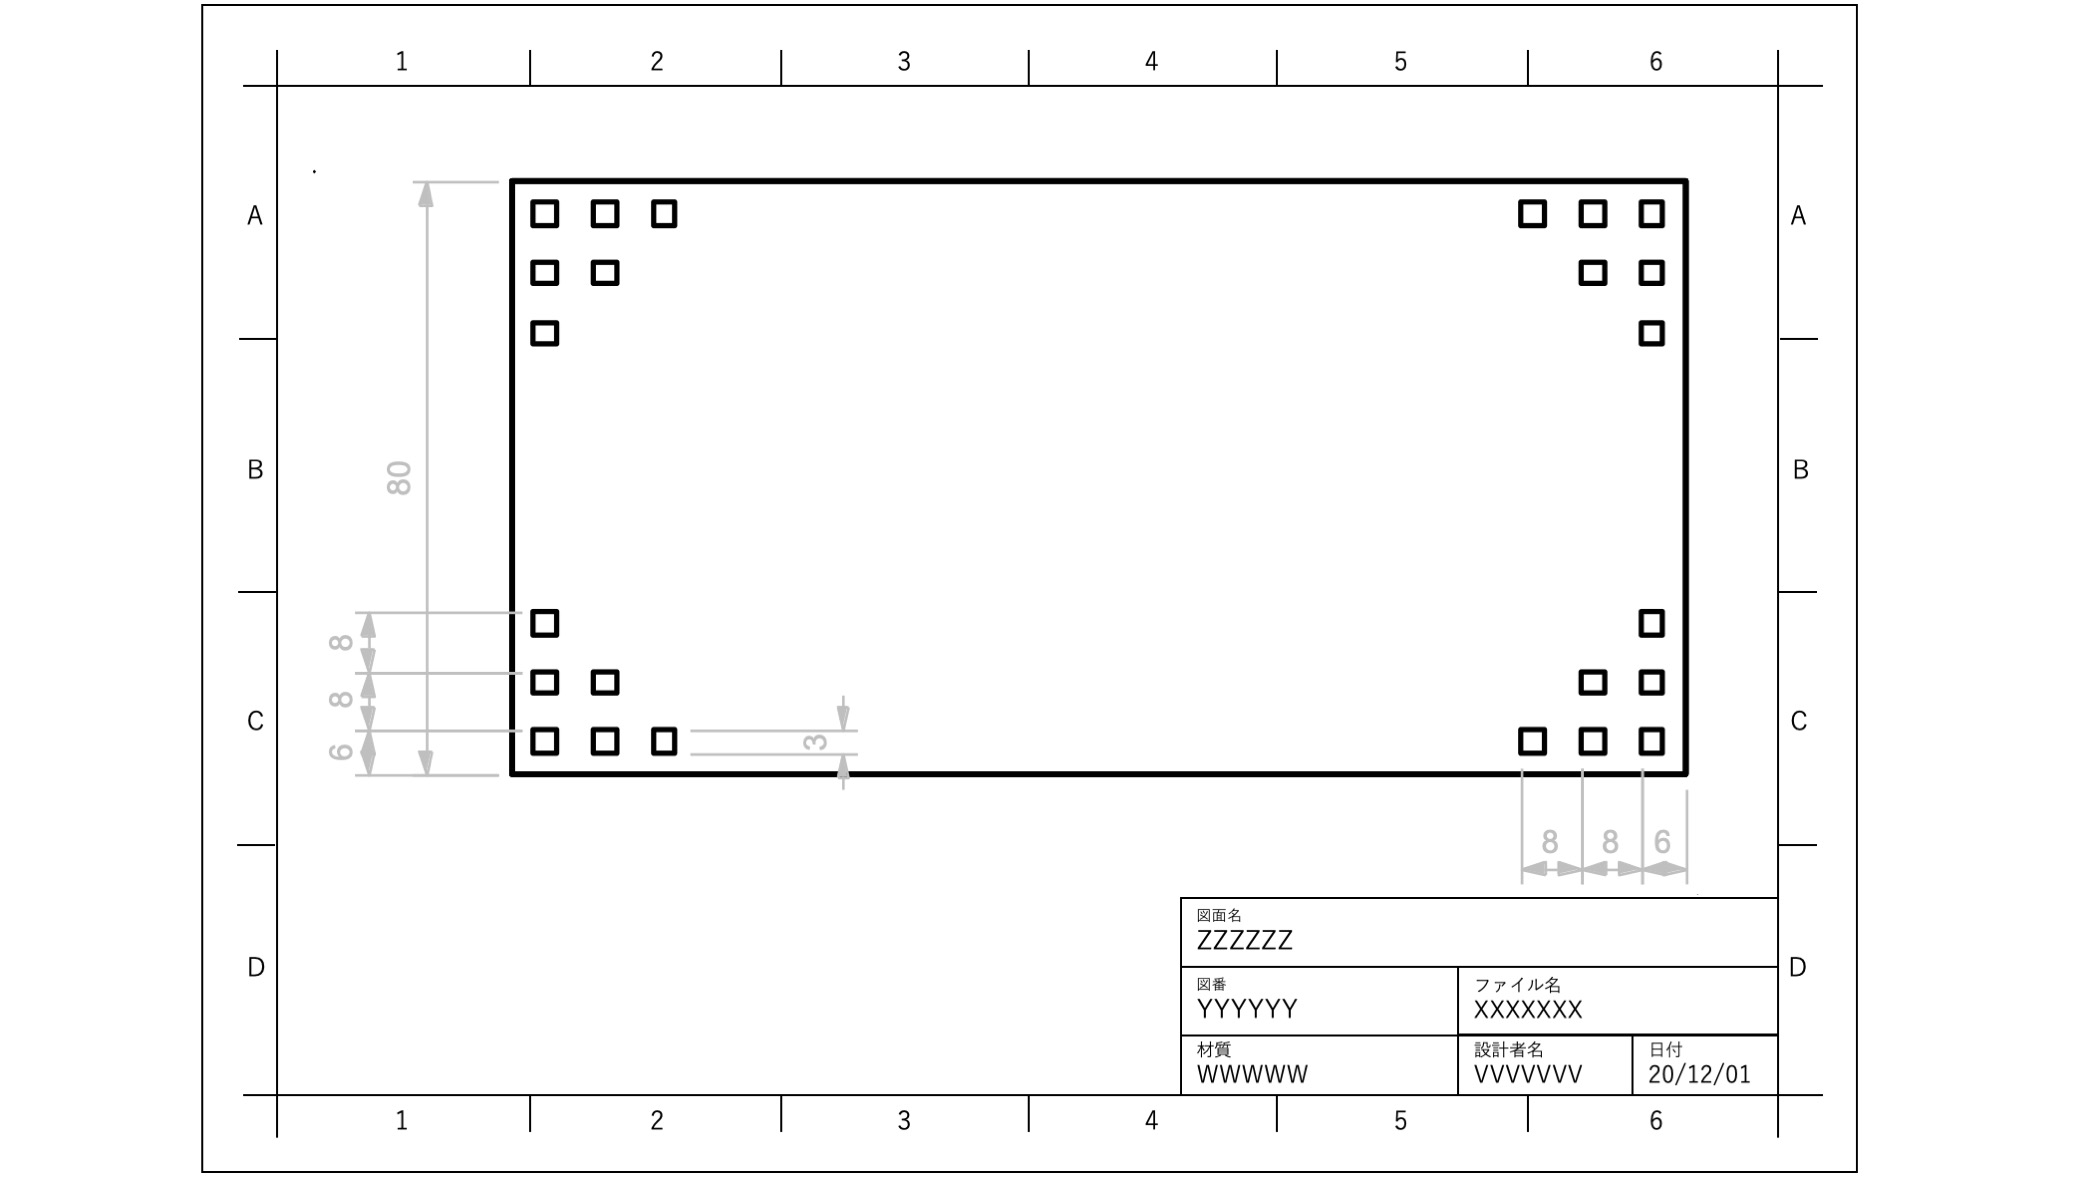rectangle: (645, 704, 689, 761), (575, 190, 627, 234), (640, 190, 688, 235), (512, 252, 570, 288), (528, 709, 565, 764), (1571, 720, 1617, 761), (1633, 604, 1677, 645), (525, 650, 560, 702), (578, 251, 627, 286), (1631, 251, 1673, 291), (581, 724, 627, 760), (1566, 195, 1612, 231), (1566, 669, 1615, 701), (1633, 658, 1672, 696), (1574, 255, 1612, 294), (524, 313, 562, 350), (526, 193, 570, 226), (1634, 311, 1670, 350), (1638, 712, 1667, 757), (1514, 190, 1548, 228), (1514, 724, 1550, 757), (1638, 193, 1670, 226), (588, 662, 617, 695), (529, 596, 555, 630)
